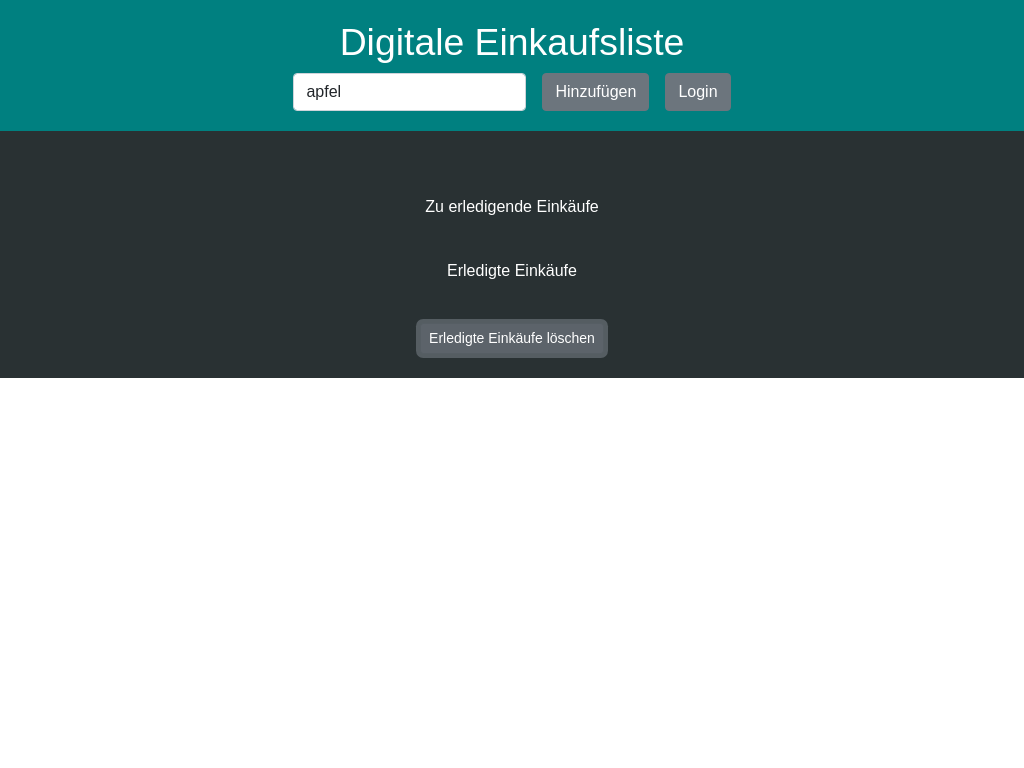
deleate › Testing eingabe mit nummer
Type " 6" into the field. click: (410, 92)
box: [293,73,526,111]
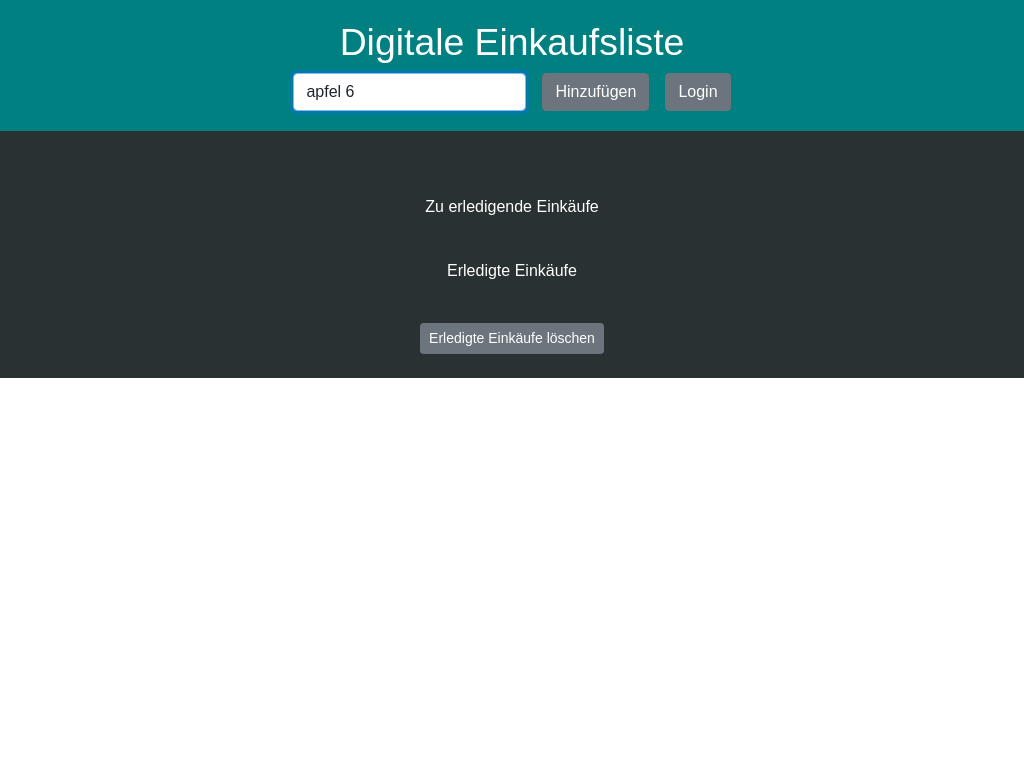
Click the button "Hinzufügen". click: (596, 92)
box: [542,73,649,111]
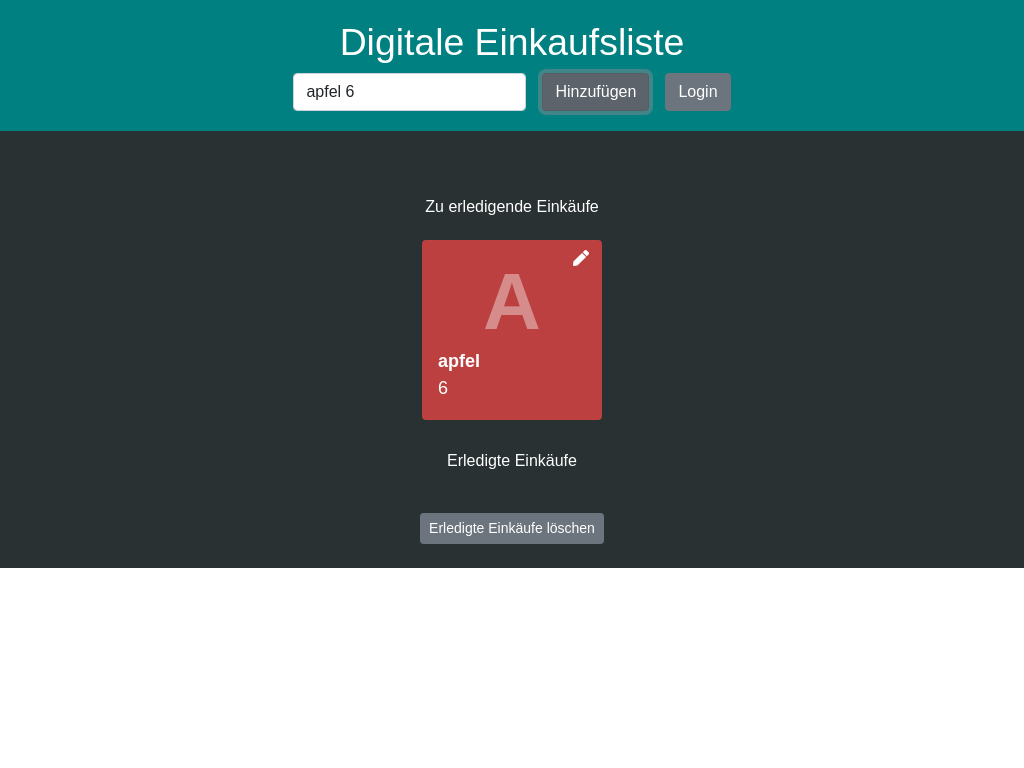
Now the text "apfel" is shown, box [438,351,480,371]
Now the text "6" is shown, box [438,378,448,398]
